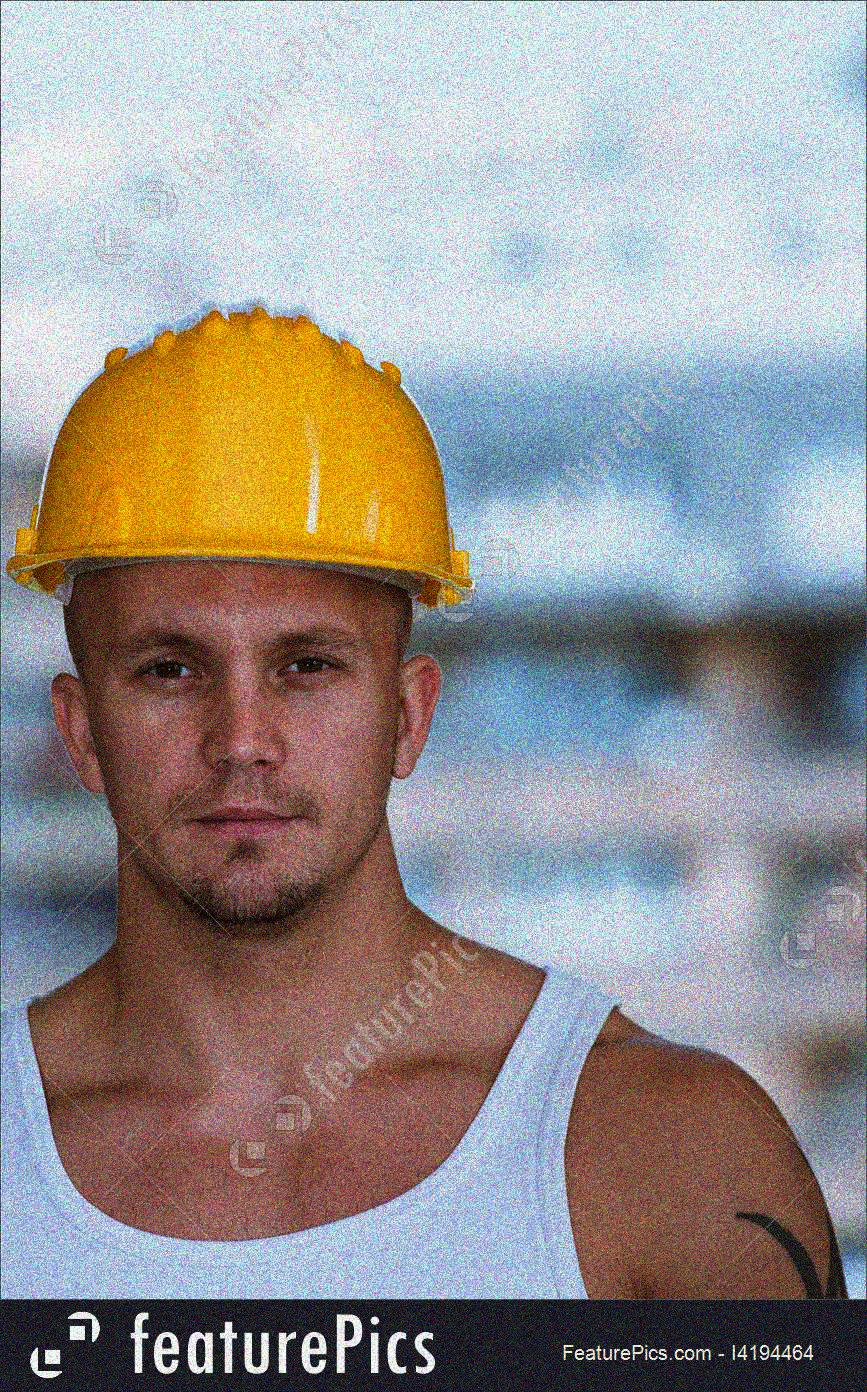helmet: (6, 309, 472, 926)
